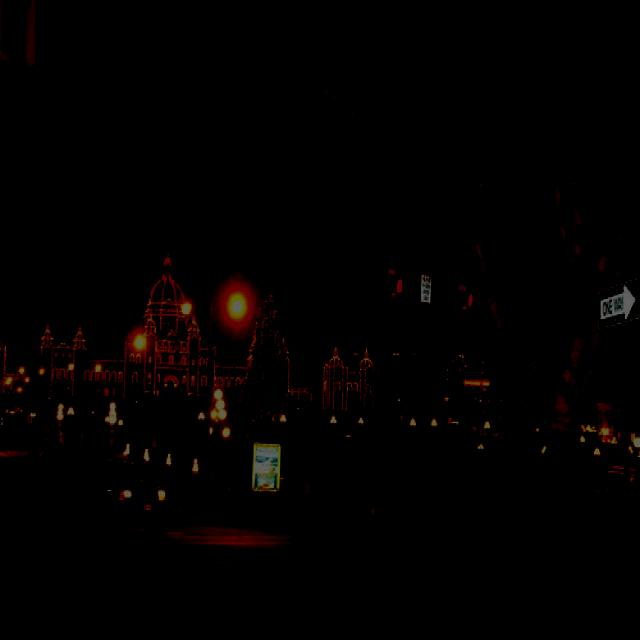Car: (53, 454, 169, 536)
